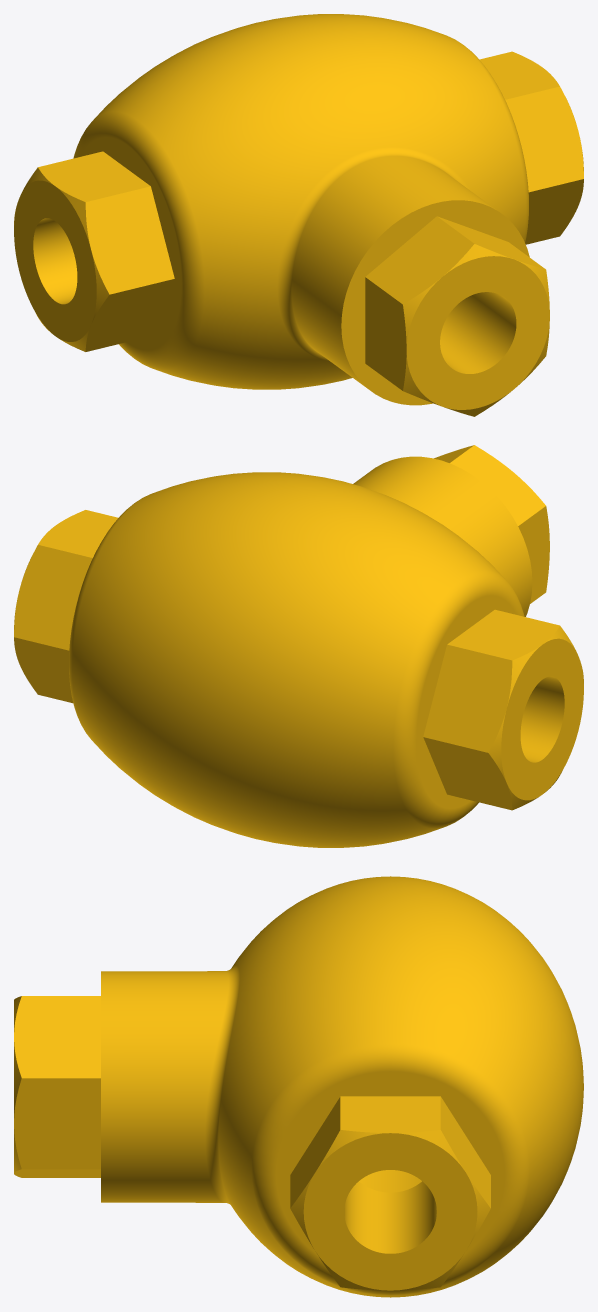
The model's file is Corpo esferico com valvula.glb.
The picture shows the model from 3 angles, top to bottom: view 1: azimuth 30°, elevation 25°; view 2: azimuth 150°, elevation 25°; view 3: azimuth 270°, elevation 25°; orthographic projection. The views are drawn at different scales.
Visible parts, largest first — view 1: Part 1; view 2: Part 1; view 3: Part 1.
Part boxes in pixels (box(x1,y1,x2,y2)): Part 1: box(14, 14, 583, 416); Part 1: box(14, 445, 583, 847); Part 1: box(14, 876, 583, 1297).
Size of the model in its own units: 0.204 by 0.1335 by 0.1968.
